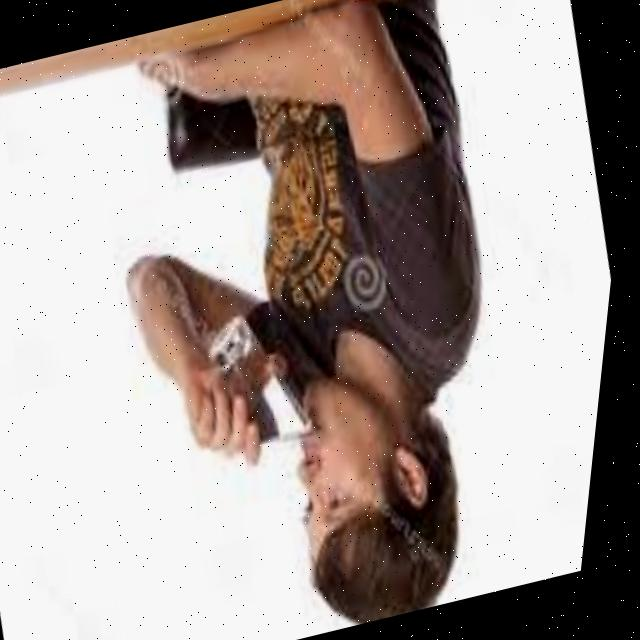eating-person: (36, 0, 588, 640)
